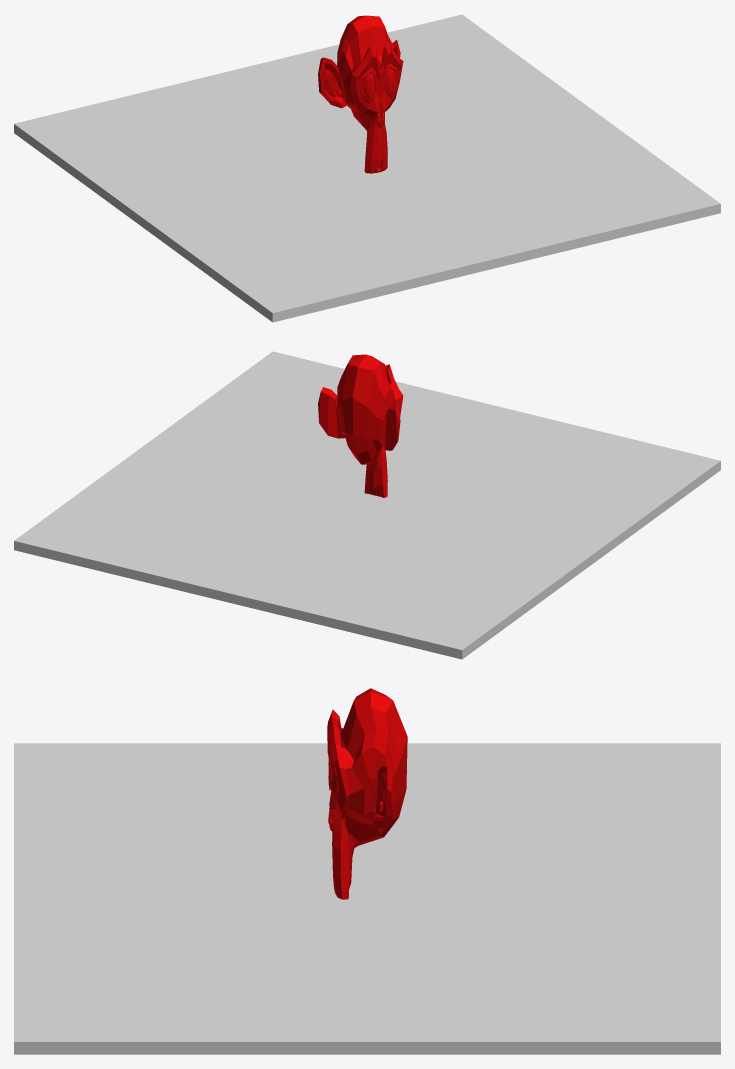
The model's file is testing_shadows.glb.
3 views of the same model, one above another, from view 1: azimuth 30°, elevation 25°; view 2: azimuth 150°, elevation 25°; view 3: azimuth 270°, elevation 25° (orthographic). The views are drawn at different scales.
Parts seen in each view (by area): view 1: Cube, Suzanne; view 2: Cube, Suzanne; view 3: Cube, Suzanne.
Part boxes in pixels (x1,y1,x2,y2): Cube: (14, 14, 720, 322); Suzanne: (318, 15, 403, 173); Cube: (14, 351, 720, 659); Suzanne: (318, 354, 403, 497); Cube: (14, 743, 720, 1054); Suzanne: (327, 688, 407, 899).
Bounding box in the file's own units: 15 × 5.01 × 15.
